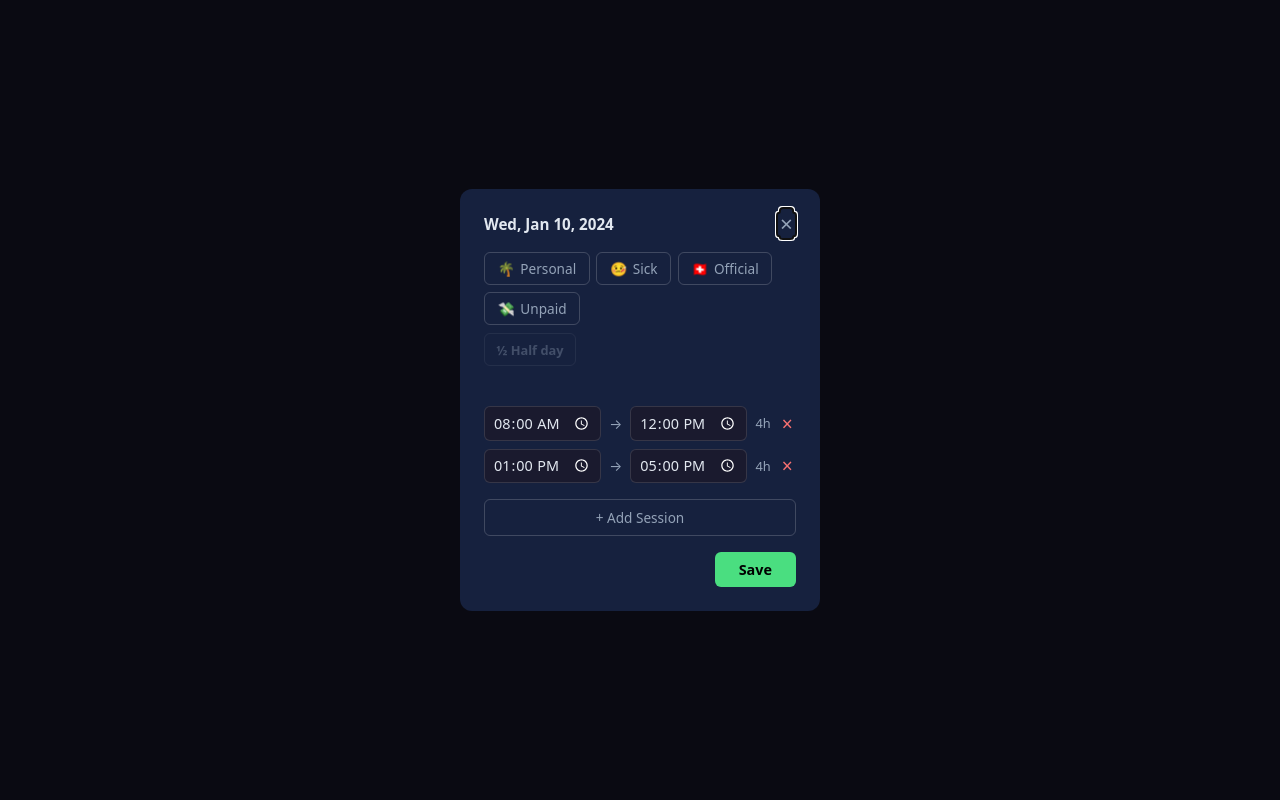
Scenario: DayEditModal › adds and deletes session rows
Click the button "+ Add Session".
click(640, 517)  # box [484,499,796,536]
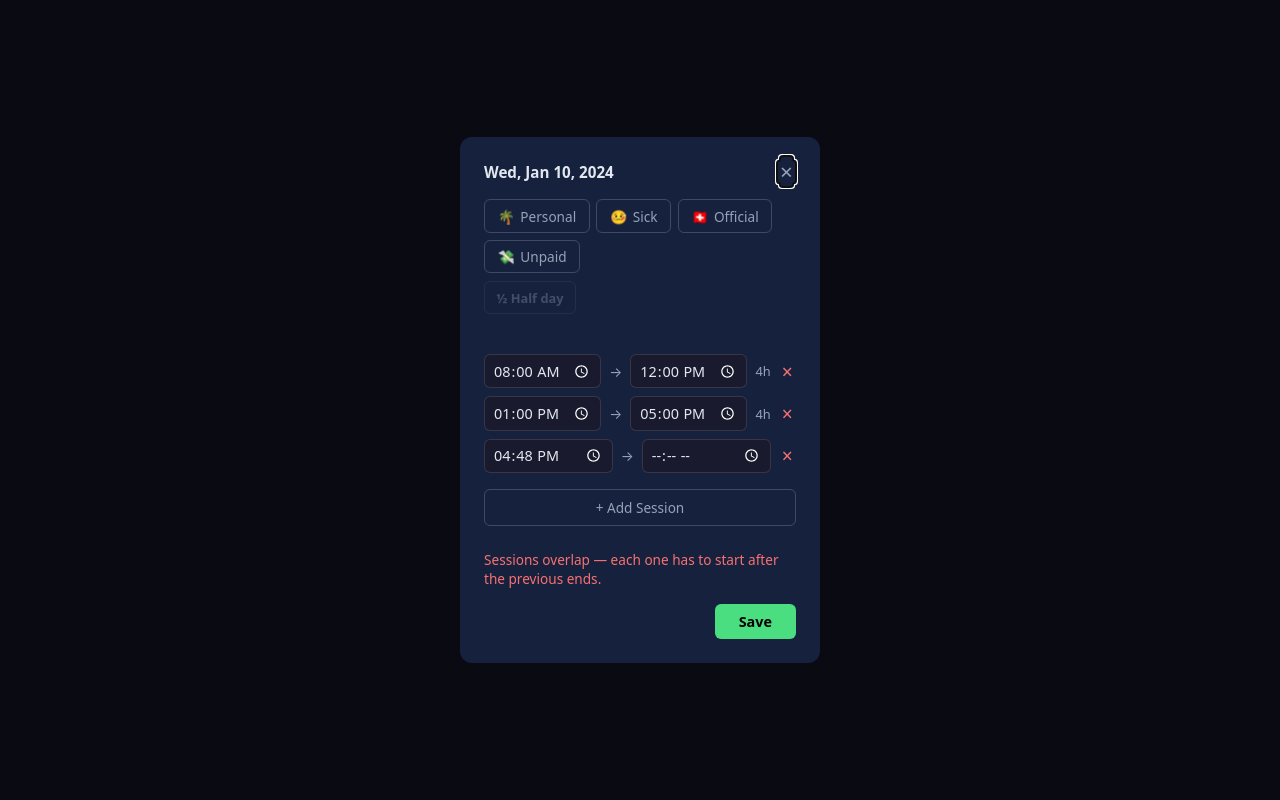
Check: the number of time fields named "Check-in time" is 3, box [484,354,601,388]; [484,396,601,431]; [484,439,613,473]
Click the button named "Delete session".
click(787, 371)  # box [779,362,796,381]
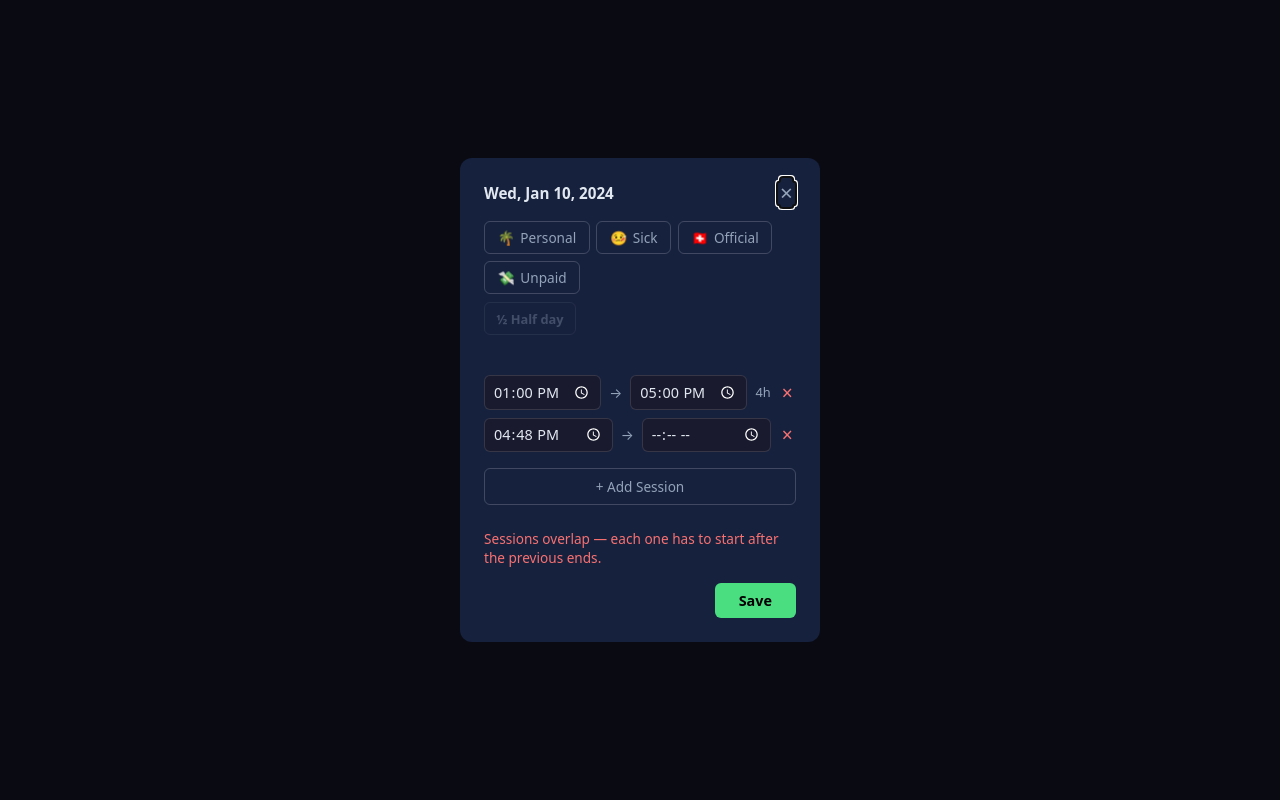
Check: the number of time fields named "Check-in time" is 2, box [484,375,601,410]; [484,418,613,452]
